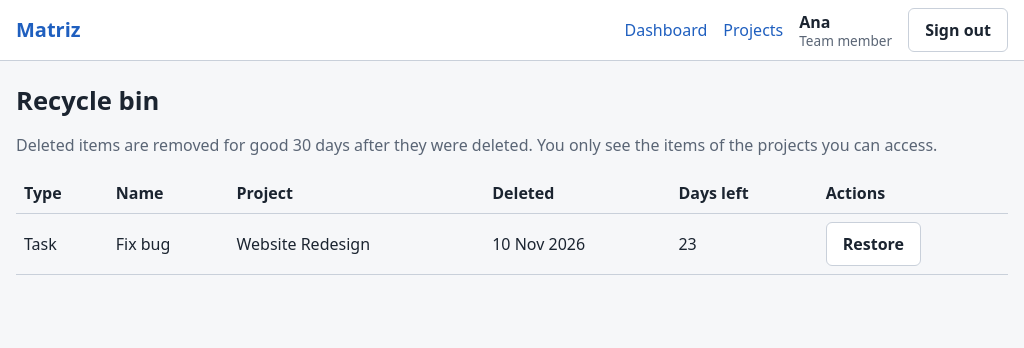
the recycle bin (F09, R9, R20) › shows the message of the API when the restore is refused, and reads the list again
expect the heading "Recycle bin" is shown: met, box [16,83,159,118]
Click the button named "Restore Fix bug" at [873, 244], box [826,222,921,266]
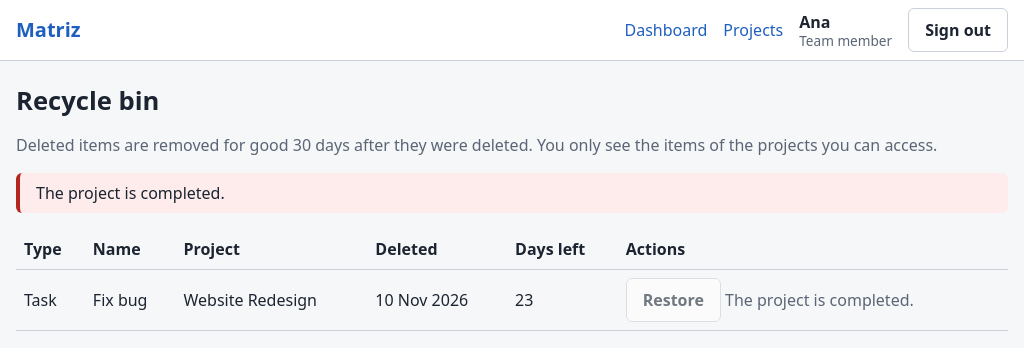
expect the message reads "The project is completed.": met, box [36,182,225,204]
expect the button named "Restore Fix bug" is disabled: met, box [626,278,721,322]
